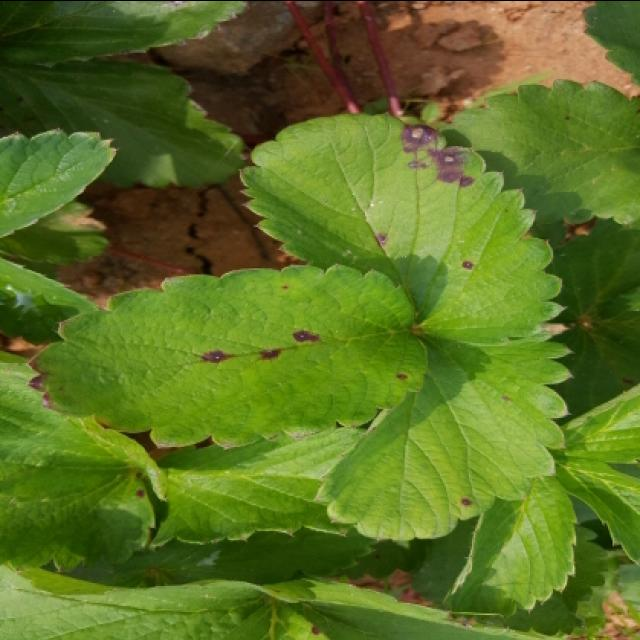Leaf Spot: (238, 109, 574, 344), (26, 261, 429, 449), (311, 338, 573, 541), (0, 348, 169, 573)
